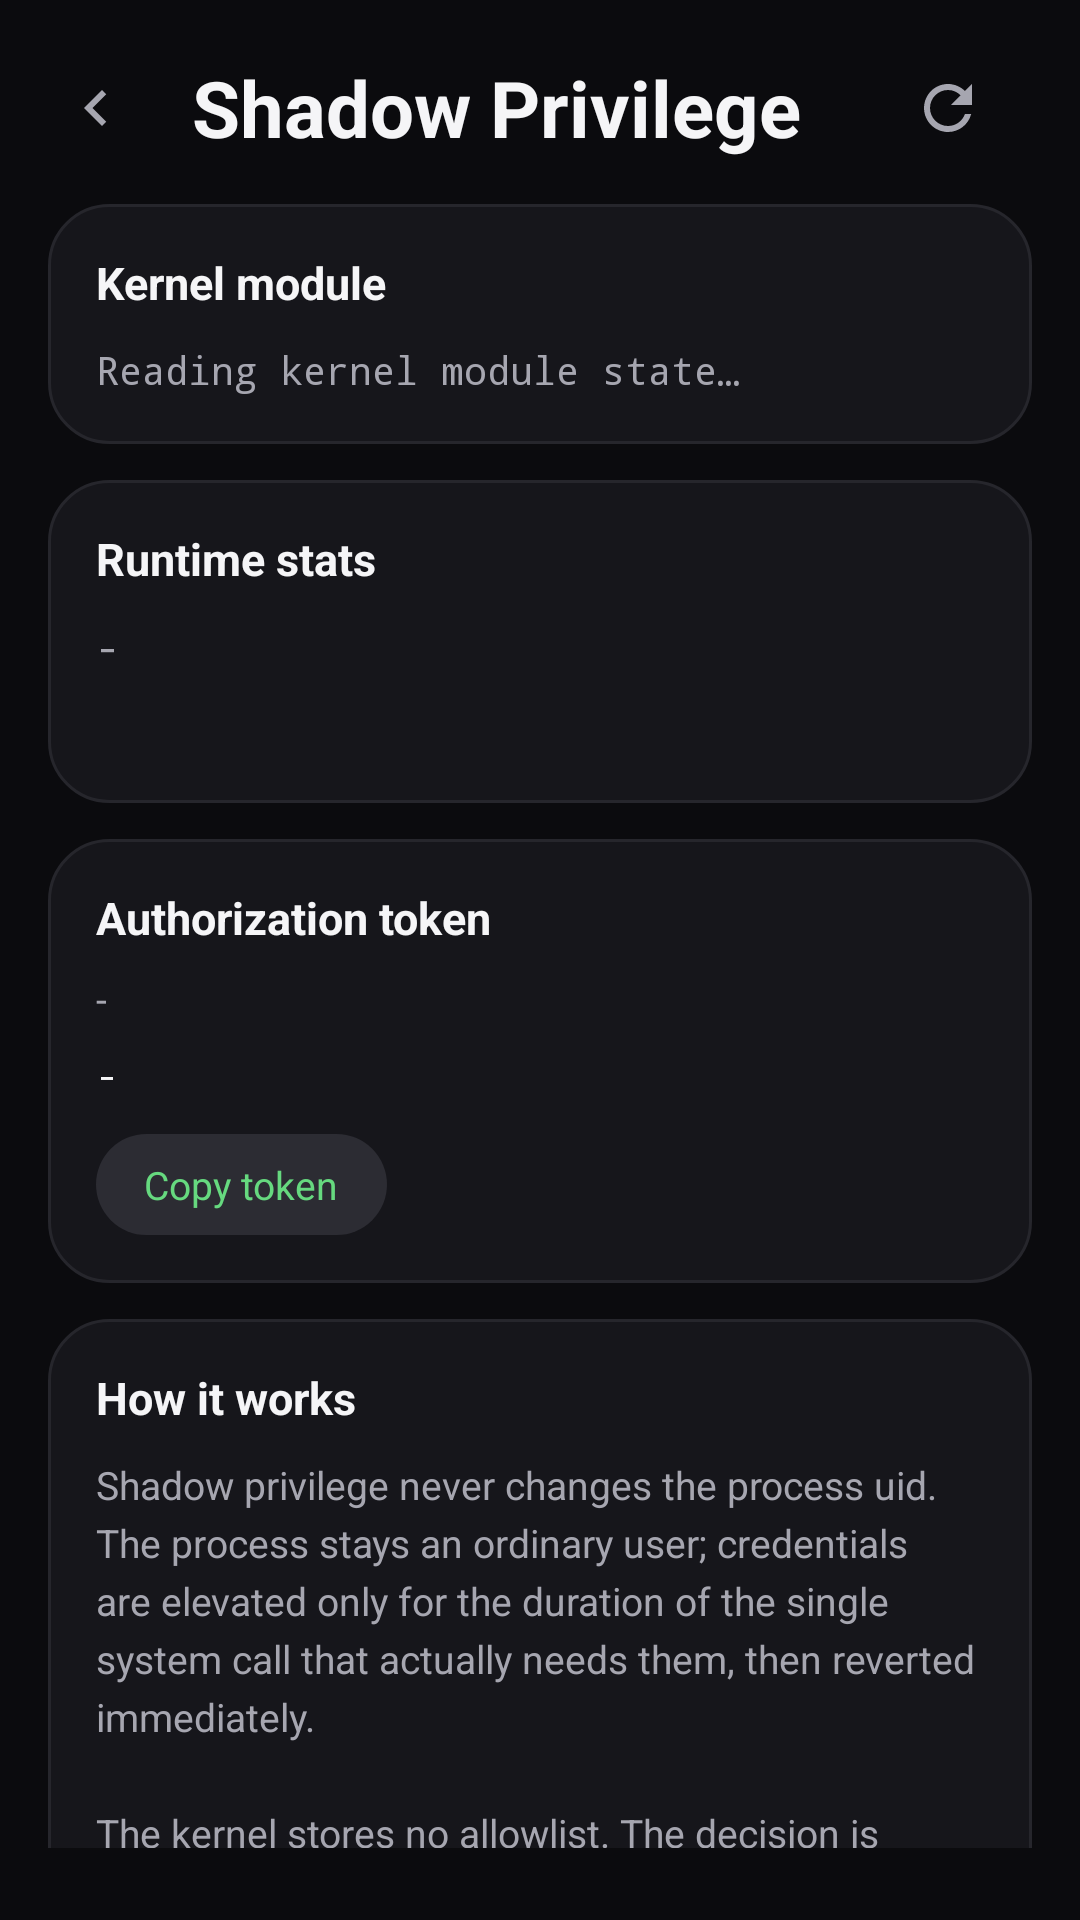

Icons on this 1080*1920 Android screen, each with its box as (x1, y1, x2, y2):
refresh: (924, 84, 972, 132)
